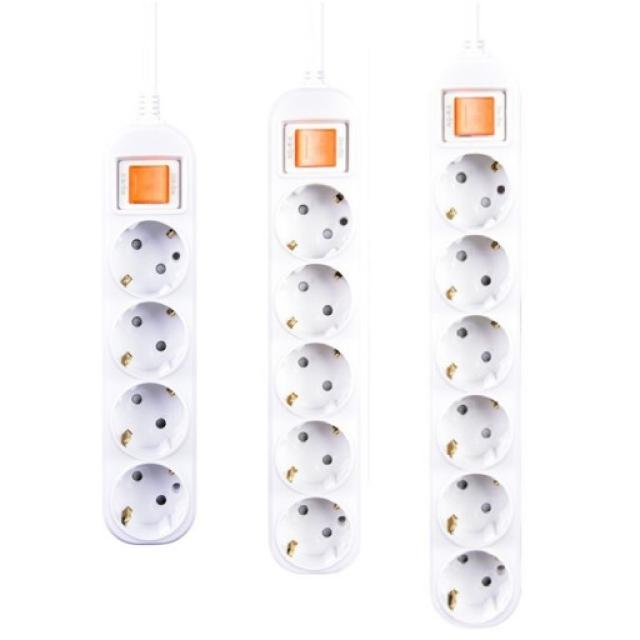typeb: (53, 97, 234, 568), (257, 69, 385, 586), (428, 46, 529, 640)
